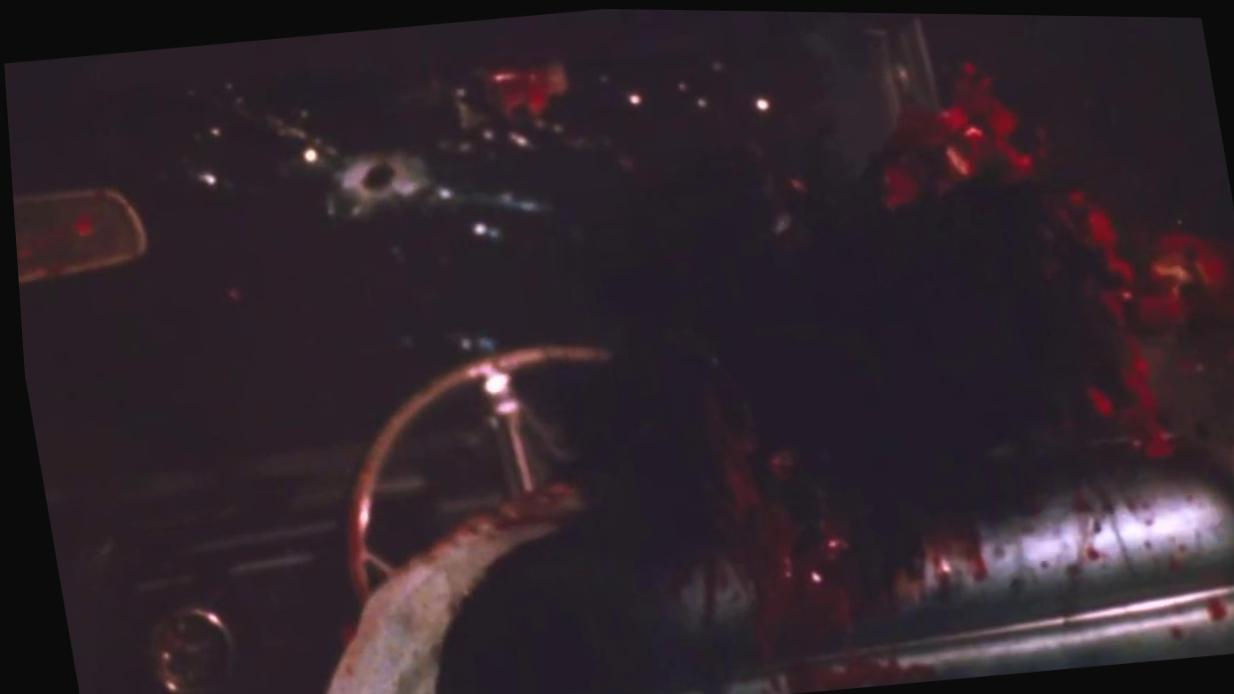Fire: (336, 70, 1234, 694), (10, 188, 139, 284)
